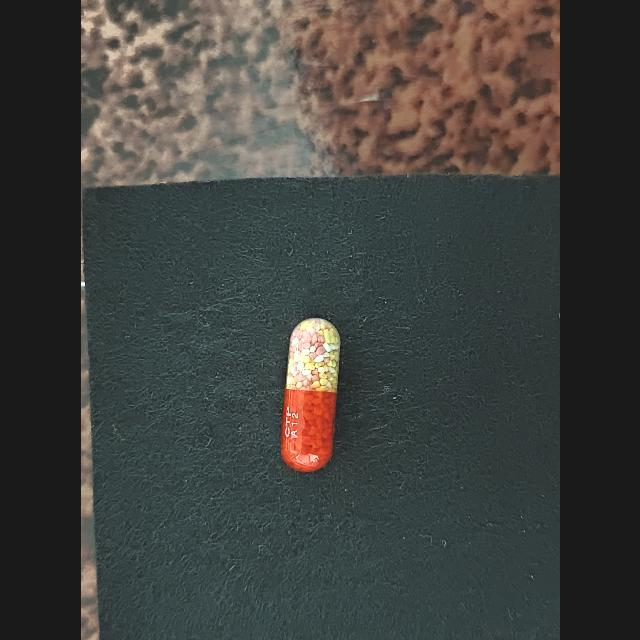Intact Capsule: (280, 318, 340, 472)
